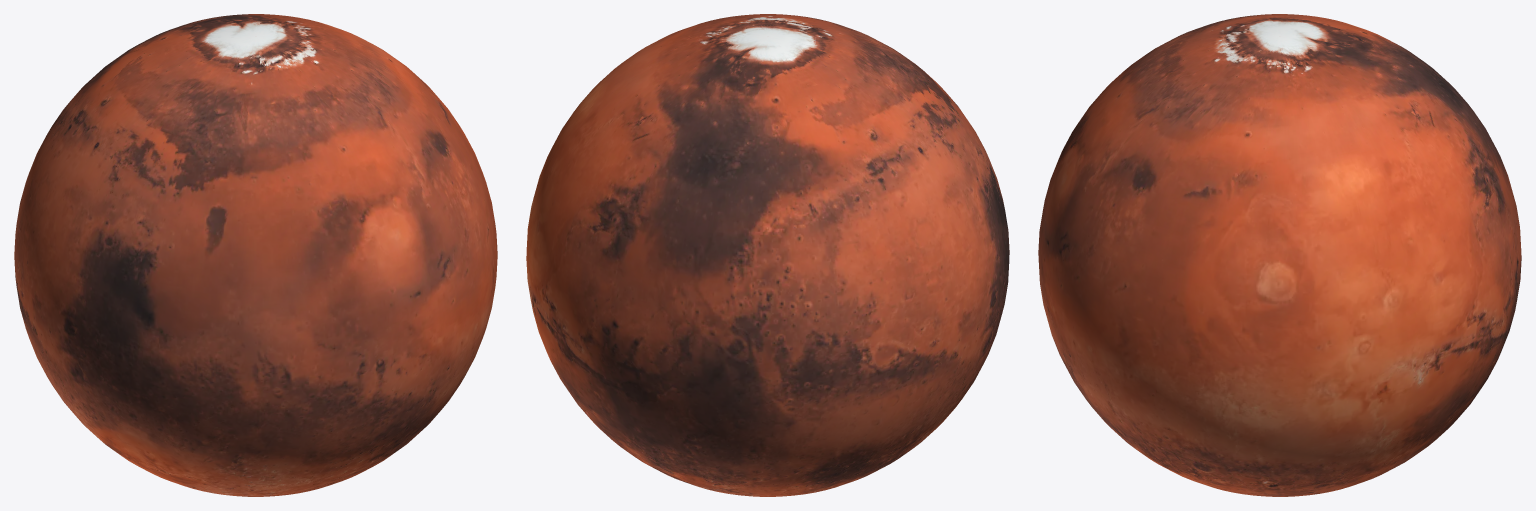
File: mars.glb
3 views of the same model, side by side, from view 1: azimuth 30°, elevation 25°; view 2: azimuth 150°, elevation 25°; view 3: azimuth 270°, elevation 25° (orthographic).
Visible parts, largest first — view 1: Sphere.001; view 2: Sphere.001; view 3: Sphere.001.
Part boxes in pixels (box(x1,y1,x2,y2)): Sphere.001: box(14, 14, 497, 496); Sphere.001: box(526, 14, 1009, 496); Sphere.001: box(1038, 14, 1521, 496).
Size of the model in its own units: 2.02 by 2.02 by 2.02.
Materials: 1 (1 with a texture image).
